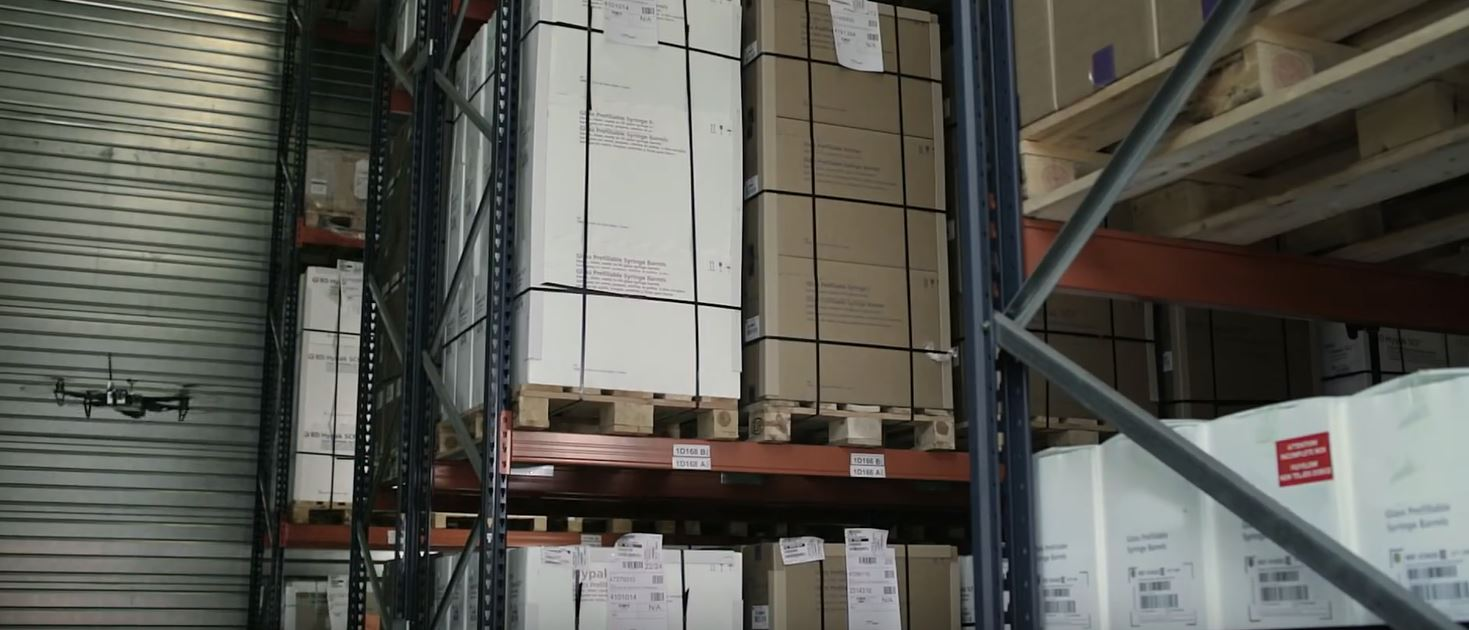drone: (38, 351, 212, 427)
